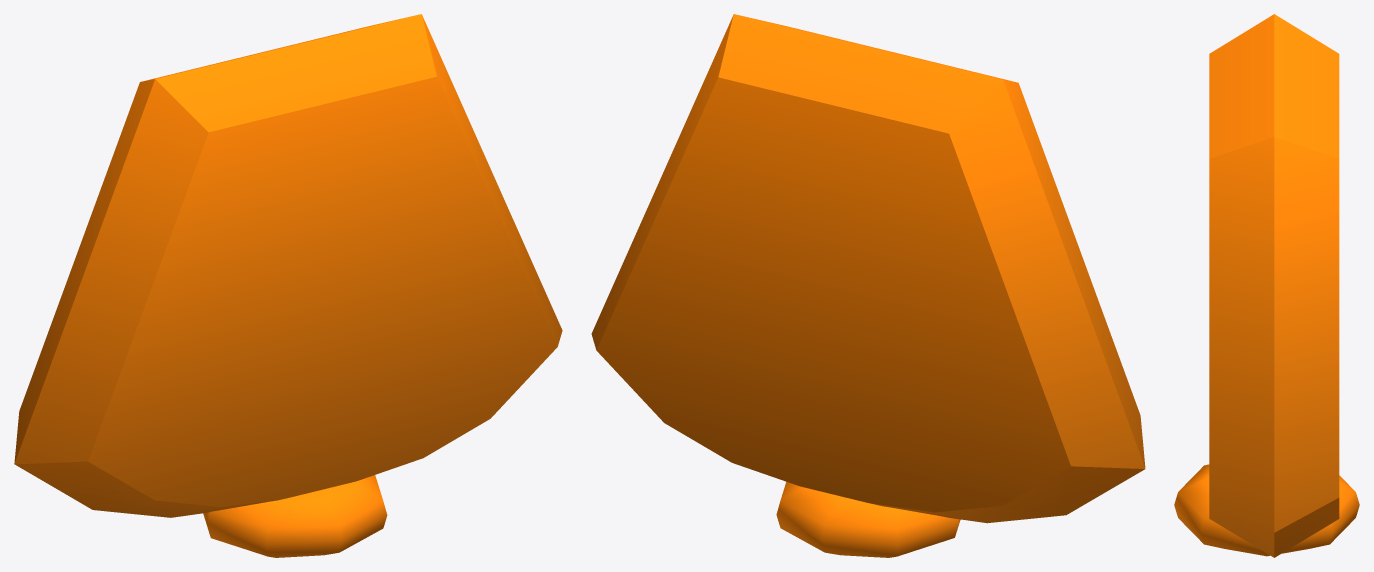
Rendered from bronze_pommel_162.glb.
The picture shows the model from 3 angles, left to right: view 1: azimuth 30°, elevation 25°; view 2: azimuth 150°, elevation 25°; view 3: azimuth 270°, elevation 25°; orthographic projection. The views are drawn at different scales.
Parts seen in each view (by area): view 1: bronze_pommel_162; view 2: bronze_pommel_162; view 3: bronze_pommel_162.
Boxes of the visible parts, x1,y1,x2,y2 form: bronze_pommel_162: [14, 14, 562, 557]; bronze_pommel_162: [591, 14, 1145, 557]; bronze_pommel_162: [1174, 14, 1359, 557].
Size of the model in its own units: 3.29 by 2.77 by 1.02.
Materials: 1 (1 with a texture image).
